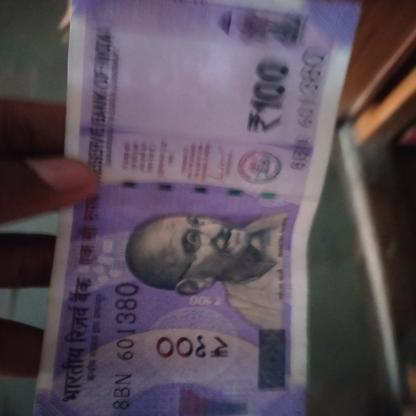New100Front: (78, 3, 305, 415)
